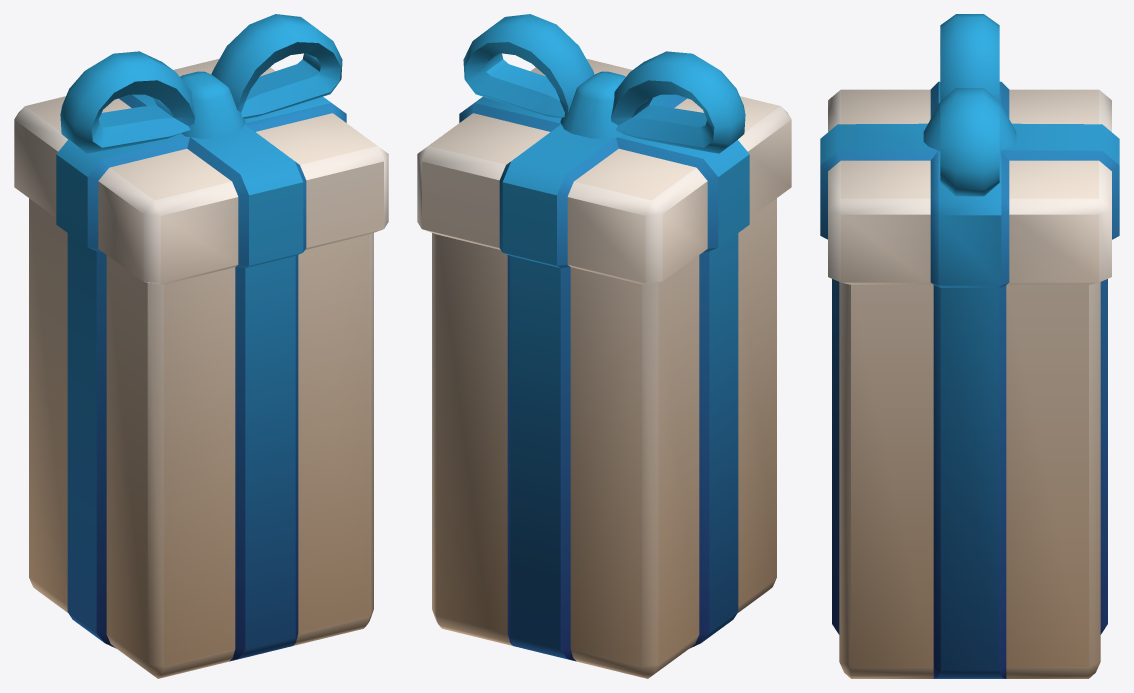
File: present_B_white.glb
3 renders of one model, left to right at view 1: azimuth 30°, elevation 25°; view 2: azimuth 150°, elevation 25°; view 3: azimuth 270°, elevation 25°, orthographic.
Visible parts, largest first — view 1: present_B_white; view 2: present_B_white; view 3: present_B_white.
Part boxes in pixels (x1,y1,x2,y2): present_B_white: (14, 14, 388, 678); present_B_white: (417, 14, 791, 678); present_B_white: (820, 14, 1119, 678).
Bounding box in the file's own units: 0.5215 × 1.06 × 0.5038.
1 material, 1 textured.
